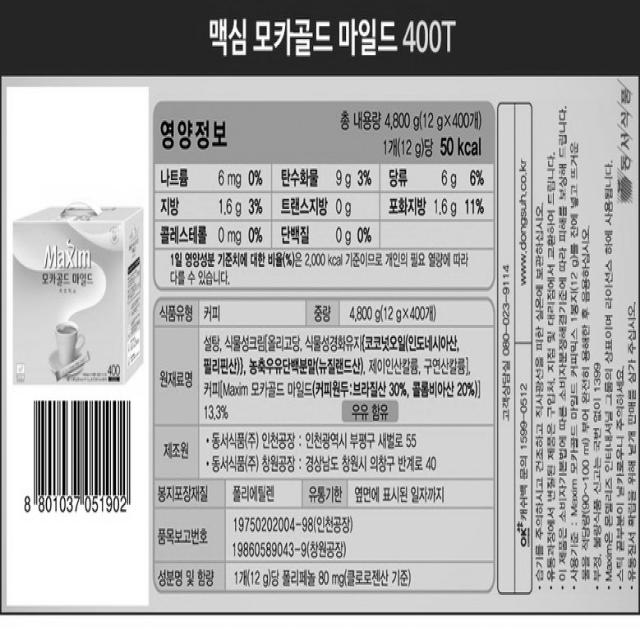Nutrition Label: (150, 92, 498, 297)
